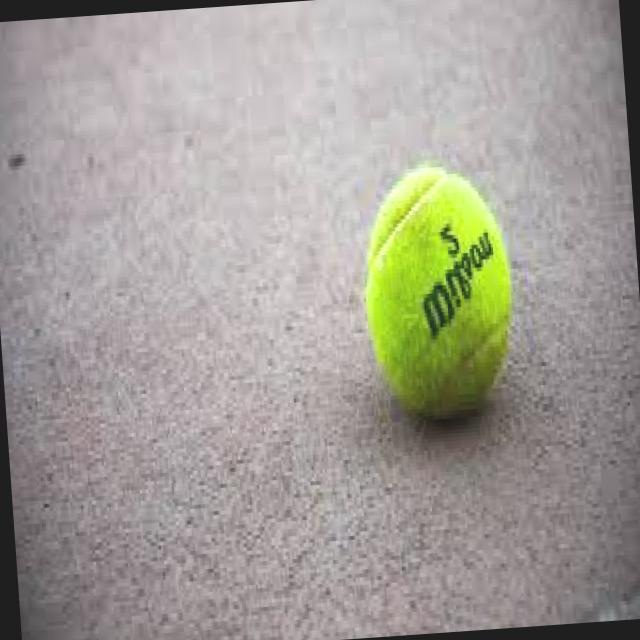Tennis Ball: (357, 160, 516, 415)
